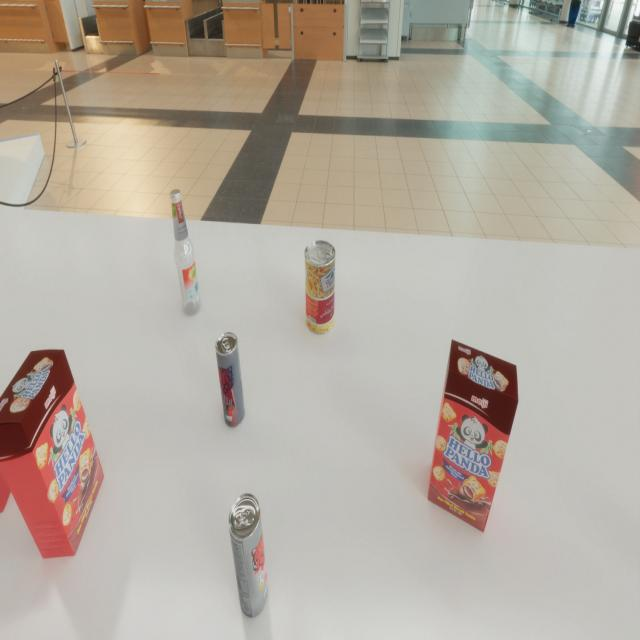Bottle: (170, 189, 201, 316)
HelloPanda: (0, 350, 104, 558), (428, 340, 518, 532)
Potato_sticks: (304, 240, 336, 335)
Rita_zero_sugar: (228, 493, 268, 618), (215, 332, 245, 428)
